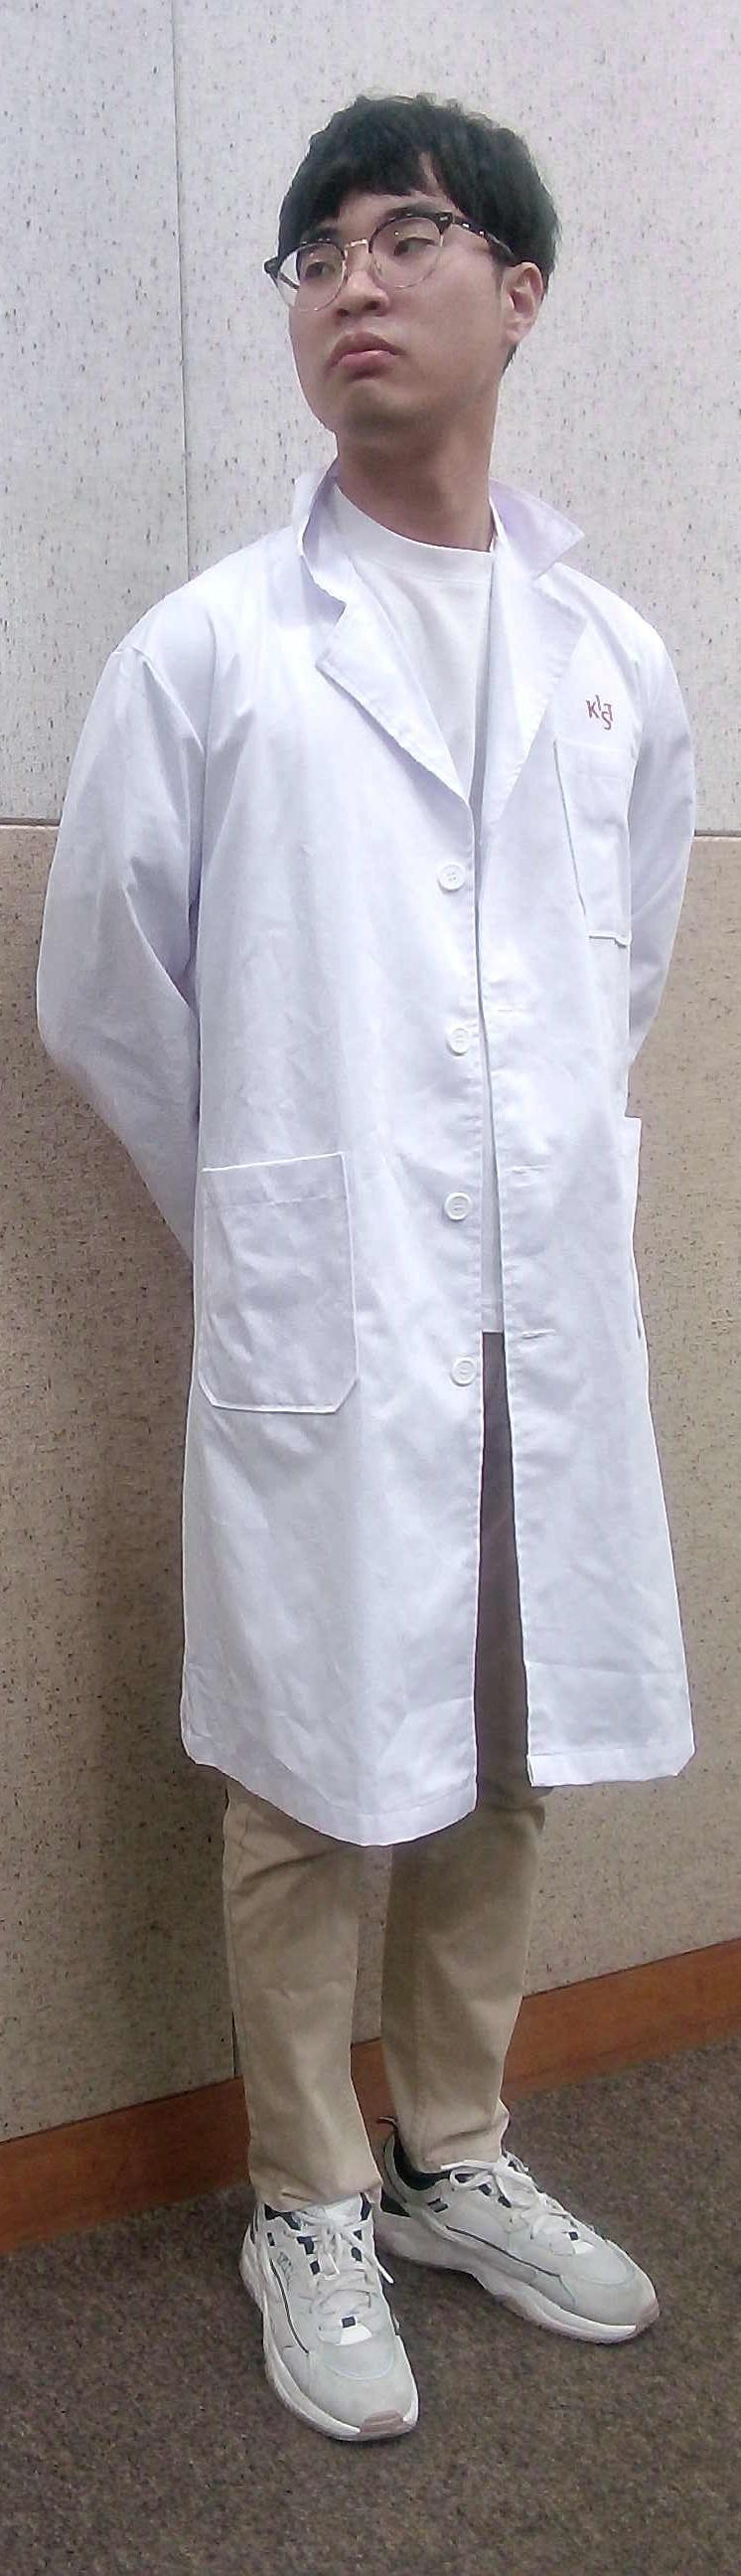lab_coat: (76, 542, 741, 1809)
